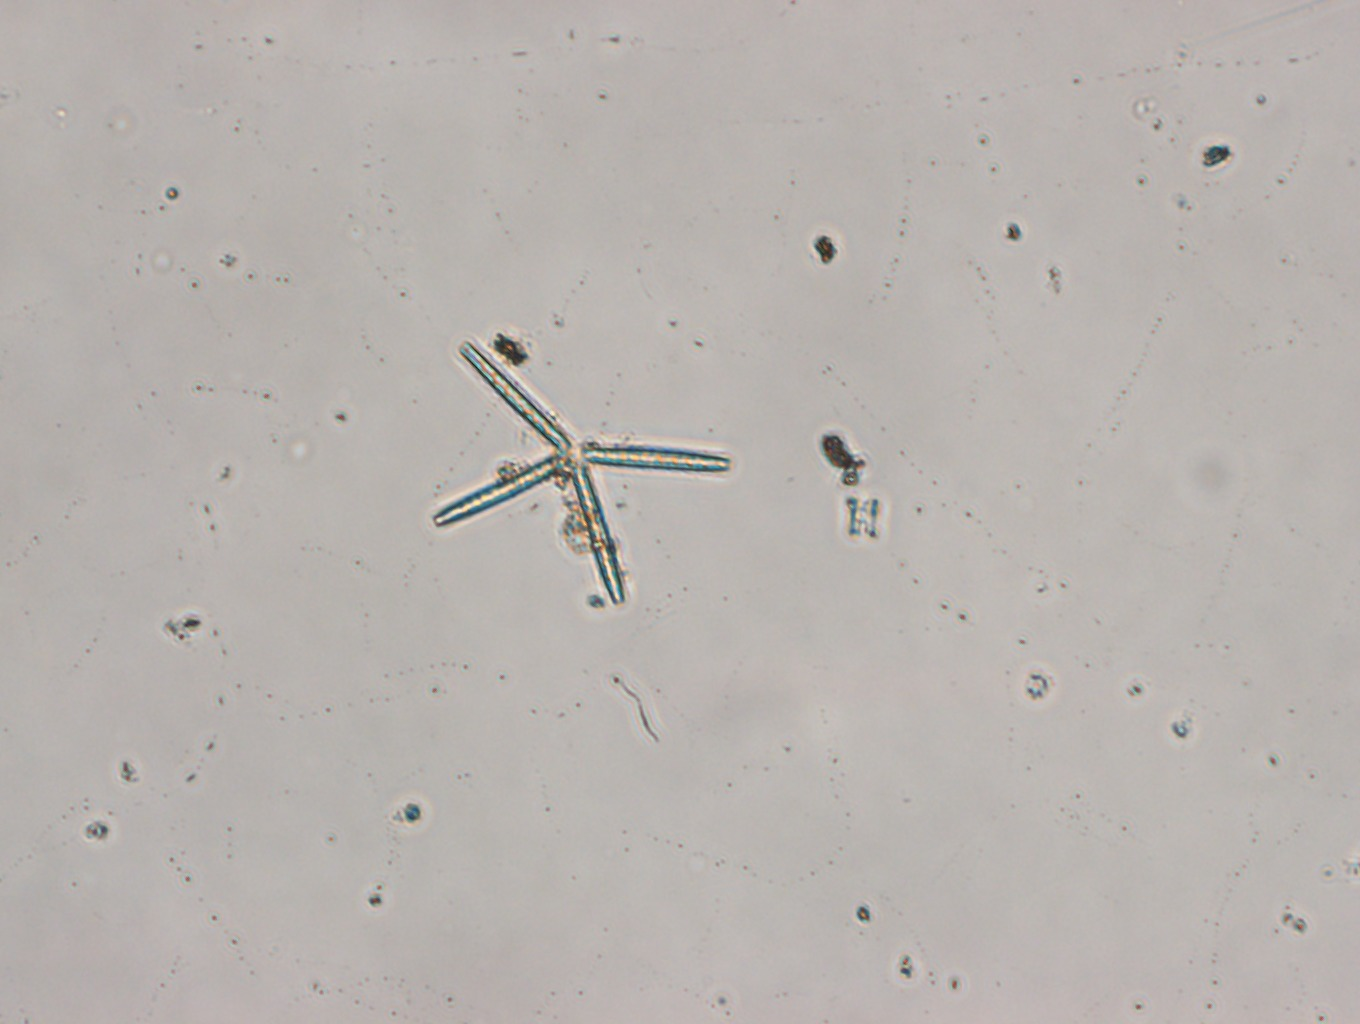thalassionema nitzschioides: (431, 341, 733, 606)
